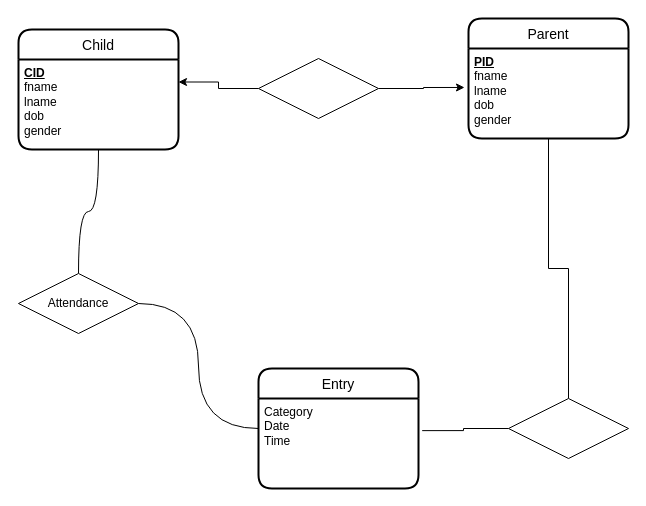
The diagram is 646 pixels wide and 506 high, and some of its shapes have lost their labels. Here are the shapes that lost their labels. From the top down, the centre of each, then its label:
At point 318,88: "Family".
At point 568,428: "Record".
